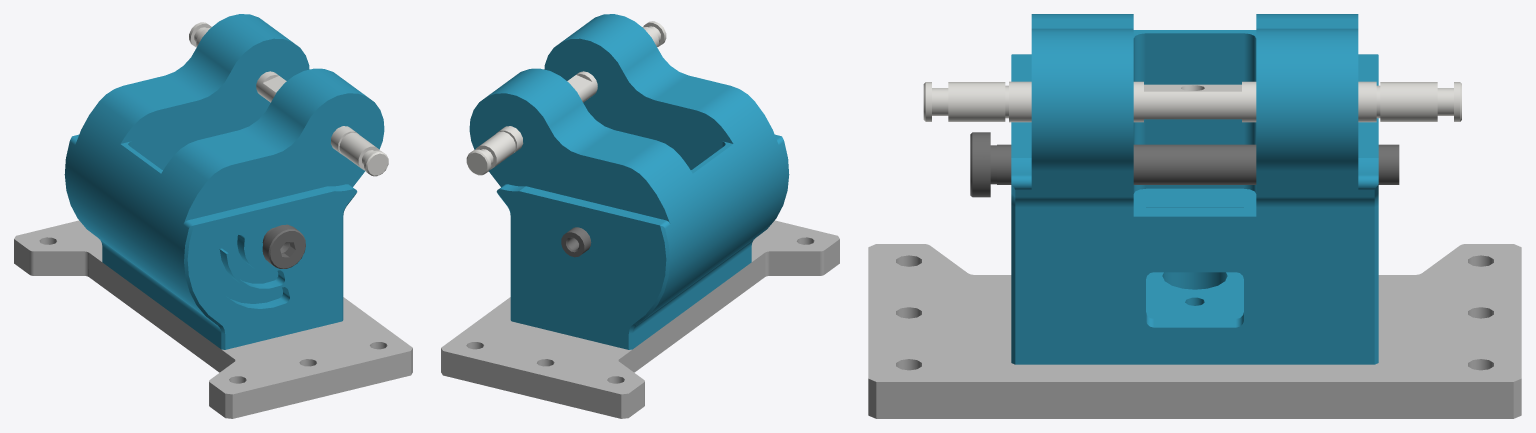
File: lifter_base.dae
The picture shows the model from 3 angles, left to right: view 1: azimuth 30°, elevation 25°; view 2: azimuth 150°, elevation 25°; view 3: azimuth 270°, elevation 25°; orthographic projection. The views are drawn at different scales.
Parts seen in each view (by area): view 1: ソリッド1, ソリッド1_ncl1_1, ソリッド1_ncl1_2, Solid1; view 2: ソリッド1, ソリッド1_ncl1_1, ソリッド1_ncl1_2, Solid1; view 3: ソリッド1, ソリッド1_ncl1_1, ソリッド1_ncl1_2, Solid1.
Part boxes in pixels (bbox=[...]): ソリッド1: bbox=[64, 14, 384, 349]; ソリッド1_ncl1_1: bbox=[14, 220, 412, 418]; ソリッド1_ncl1_2: bbox=[189, 22, 388, 176]; Solid1: bbox=[262, 224, 305, 268]; ソリッド1: bbox=[469, 14, 789, 349]; ソリッド1_ncl1_1: bbox=[441, 220, 839, 418]; ソリッド1_ncl1_2: bbox=[466, 21, 666, 175]; Solid1: bbox=[561, 227, 591, 257]; ソリッド1: bbox=[1011, 14, 1378, 364]; ソリッド1_ncl1_1: bbox=[868, 244, 1521, 418]; ソリッド1_ncl1_2: bbox=[923, 81, 1461, 122]; Solid1: bbox=[970, 132, 1399, 197].
Size of the model in its own units: 0.0898 by 0.16 by 0.0997.
